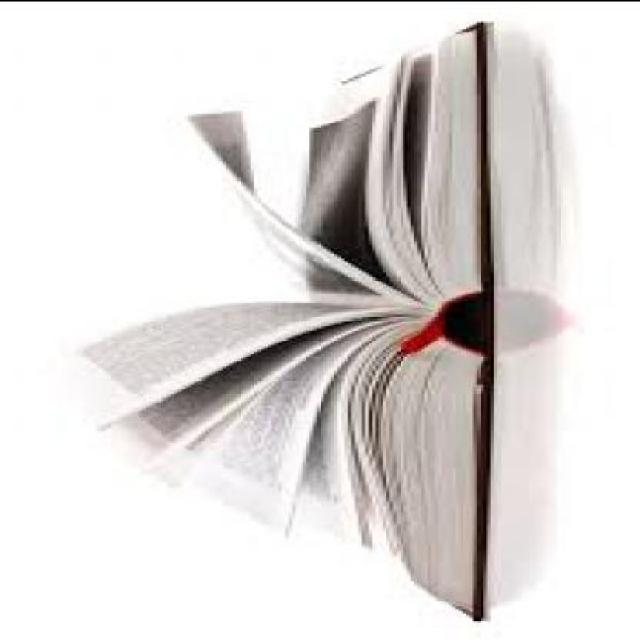PAPER: (52, 19, 494, 616), (59, 296, 428, 426), (295, 56, 428, 296)
